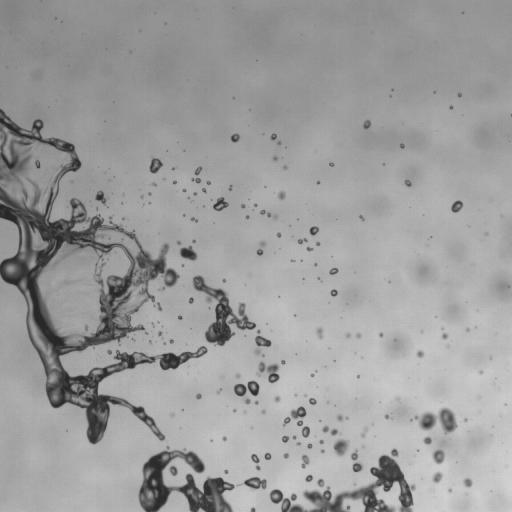droplet: (138, 446, 235, 511), (193, 275, 255, 346), (414, 407, 457, 434), (283, 406, 309, 437), (233, 380, 259, 404), (256, 362, 279, 383), (254, 330, 271, 354), (242, 477, 266, 490), (333, 439, 349, 456), (179, 246, 197, 260), (149, 157, 162, 173), (213, 197, 228, 210), (432, 448, 444, 464), (95, 191, 107, 204), (451, 200, 462, 212), (301, 454, 309, 468), (432, 472, 442, 482), (230, 133, 239, 142), (309, 226, 318, 235), (463, 478, 472, 487), (316, 327, 323, 338), (423, 436, 431, 444), (195, 166, 202, 175), (317, 478, 324, 487), (297, 238, 307, 244), (363, 120, 370, 128), (278, 191, 285, 199), (416, 350, 424, 357), (34, 159, 40, 168), (329, 268, 338, 274), (336, 415, 345, 421), (330, 289, 337, 296), (305, 475, 312, 482), (404, 180, 411, 186), (441, 332, 447, 339), (309, 398, 316, 404), (282, 435, 288, 442), (264, 453, 271, 459), (270, 134, 276, 140), (274, 396, 280, 402), (283, 453, 289, 458), (356, 333, 361, 338), (196, 394, 201, 399), (306, 247, 312, 251), (189, 297, 193, 303), (158, 331, 162, 337), (360, 215, 364, 220), (277, 232, 281, 237), (236, 373, 240, 378), (384, 415, 389, 419), (250, 507, 255, 511), (191, 218, 197, 221), (400, 144, 404, 148), (273, 156, 277, 160), (329, 162, 333, 166), (152, 182, 156, 186), (202, 188, 206, 192), (178, 315, 182, 319), (346, 333, 350, 337), (169, 339, 173, 343), (107, 350, 111, 354), (281, 360, 285, 364), (310, 373, 314, 377), (222, 436, 226, 440), (307, 444, 311, 448), (277, 141, 280, 145), (283, 166, 287, 169), (241, 204, 245, 207), (379, 333, 383, 336), (292, 436, 296, 439), (319, 440, 323, 443), (321, 449, 324, 453), (224, 470, 228, 473), (448, 488, 451, 492), (449, 106, 452, 109), (173, 180, 176, 183), (207, 181, 210, 184), (183, 188, 186, 191), (254, 204, 257, 207), (177, 241, 180, 244), (316, 242, 319, 245), (222, 279, 225, 282), (479, 370, 482, 373), (217, 390, 220, 393), (255, 401, 258, 404), (262, 410, 265, 413), (297, 442, 300, 445), (458, 94, 461, 96), (172, 167, 174, 170), (229, 186, 231, 189), (194, 192, 196, 195), (246, 215, 248, 218), (464, 419, 467, 421), (291, 260, 293, 262), (151, 323, 153, 325)
ligament: (0, 108, 204, 444), (269, 448, 415, 511), (350, 450, 363, 472), (260, 210, 277, 219), (322, 426, 339, 435), (251, 454, 260, 470), (257, 241, 265, 255), (360, 427, 367, 437), (60, 280, 72, 285), (191, 177, 200, 183)
